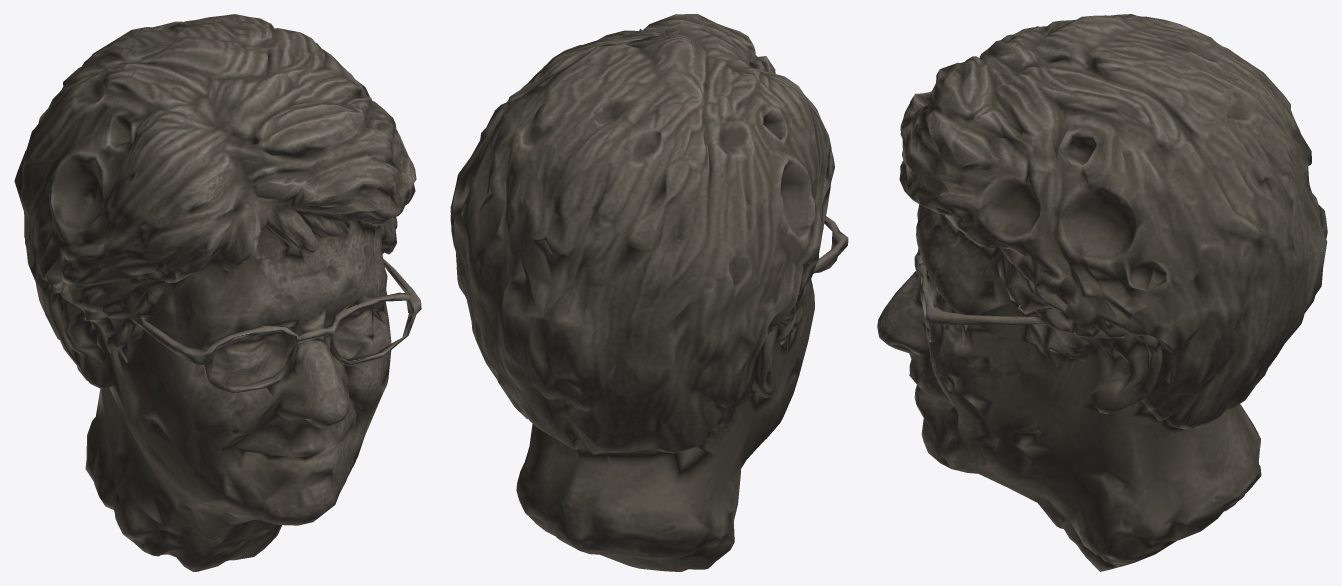
File: Bell-low.glb
3 renders of one model, left to right at view 1: azimuth 30°, elevation 25°; view 2: azimuth 150°, elevation 25°; view 3: azimuth 270°, elevation 25°, orthographic.
Bounding box in the file's own units: 1.23 × 1.9 × 1.46.
1 material, 1 textured.
